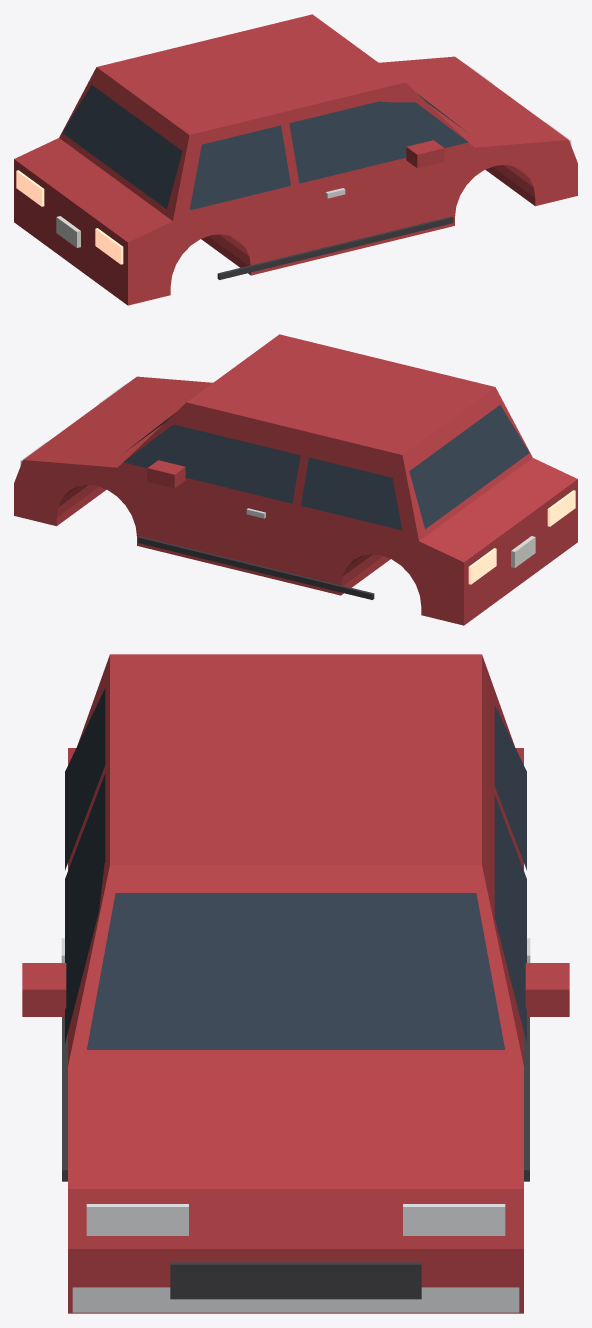
The model's file is SM_Veh_Compact.fbx.
The picture shows the model from 3 angles, top to bottom: view 1: azimuth 30°, elevation 25°; view 2: azimuth 150°, elevation 25°; view 3: azimuth 270°, elevation 25°; orthographic projection. The views are drawn at different scales.
Parts seen in each view (by area): view 1: SM_Veh_Compact; view 2: SM_Veh_Compact; view 3: SM_Veh_Compact.
Part boxes in pixels (<box>): SM_Veh_Compact: <box>14,14,577,305</box>; SM_Veh_Compact: <box>14,334,577,625</box>; SM_Veh_Compact: <box>22,654,569,1313</box>.
Bounding box in the file's own units: 386 × 200 × 117.
